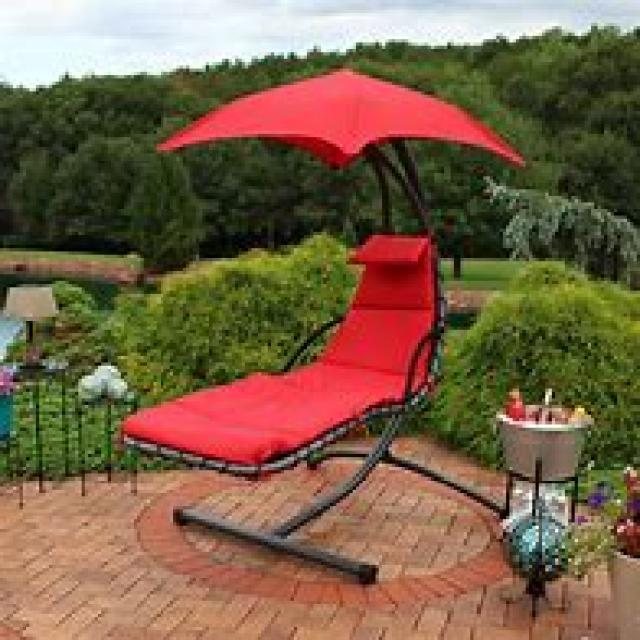chair: (118, 228, 448, 584)
